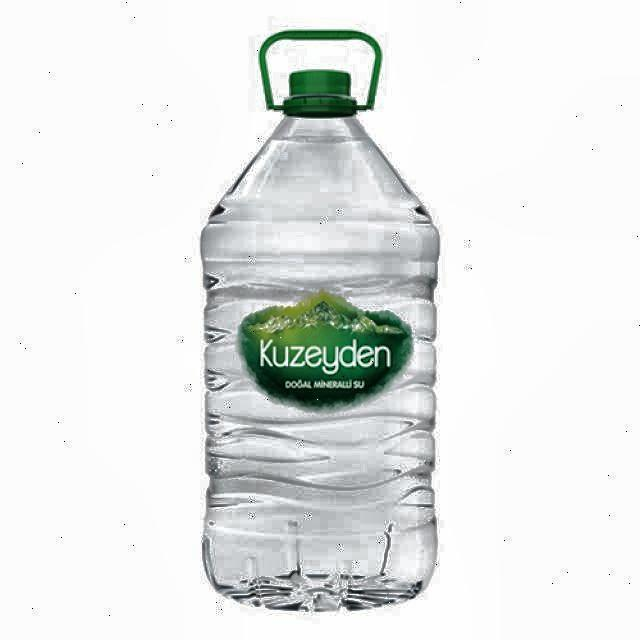plastic: (200, 29, 440, 615)
